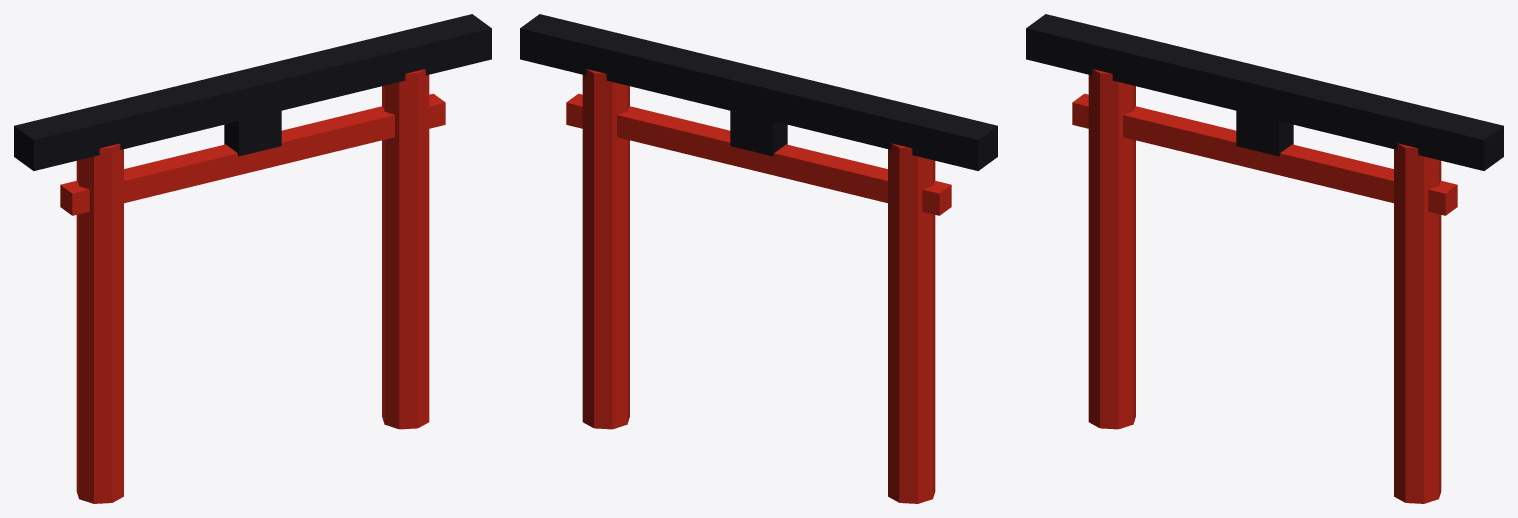
The model's file is torii_gate.glb.
3 renders of one model, left to right at view 1: azimuth 30°, elevation 25°; view 2: azimuth 150°, elevation 25°; view 3: azimuth 330°, elevation 25°, orthographic.
Visible parts, largest first — view 1: torii_gate; view 2: torii_gate; view 3: torii_gate.
Boxes of the visible parts, left/top/right/bottom form: torii_gate: left=14, top=14, right=491, bottom=503; torii_gate: left=520, top=14, right=997, bottom=503; torii_gate: left=1026, top=14, right=1503, bottom=503.
Size of the model in its own units: 5.4 by 4.28 by 0.5.
